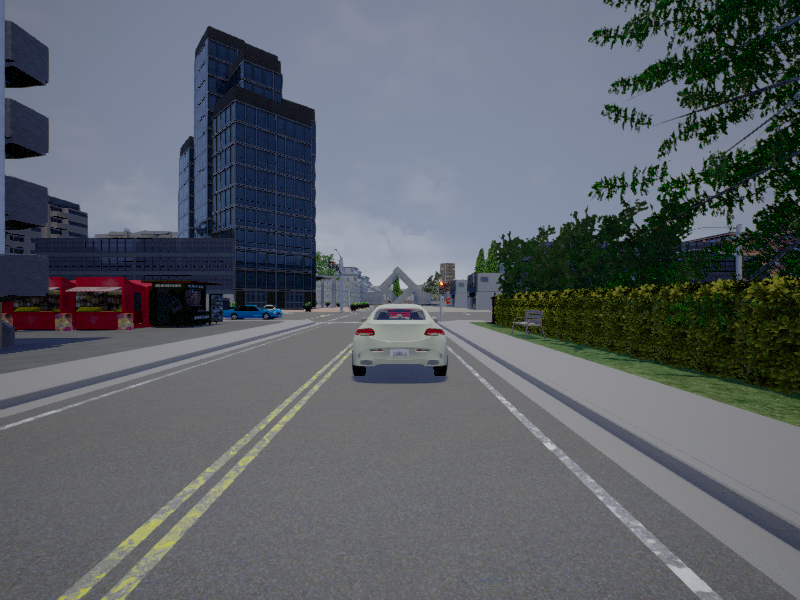Benign: (353, 305, 448, 380), (226, 304, 284, 320)
